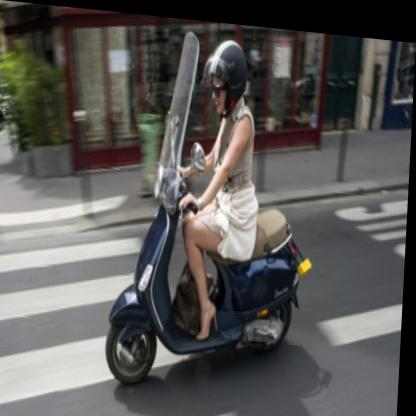With Helmet: (202, 26, 251, 116)
